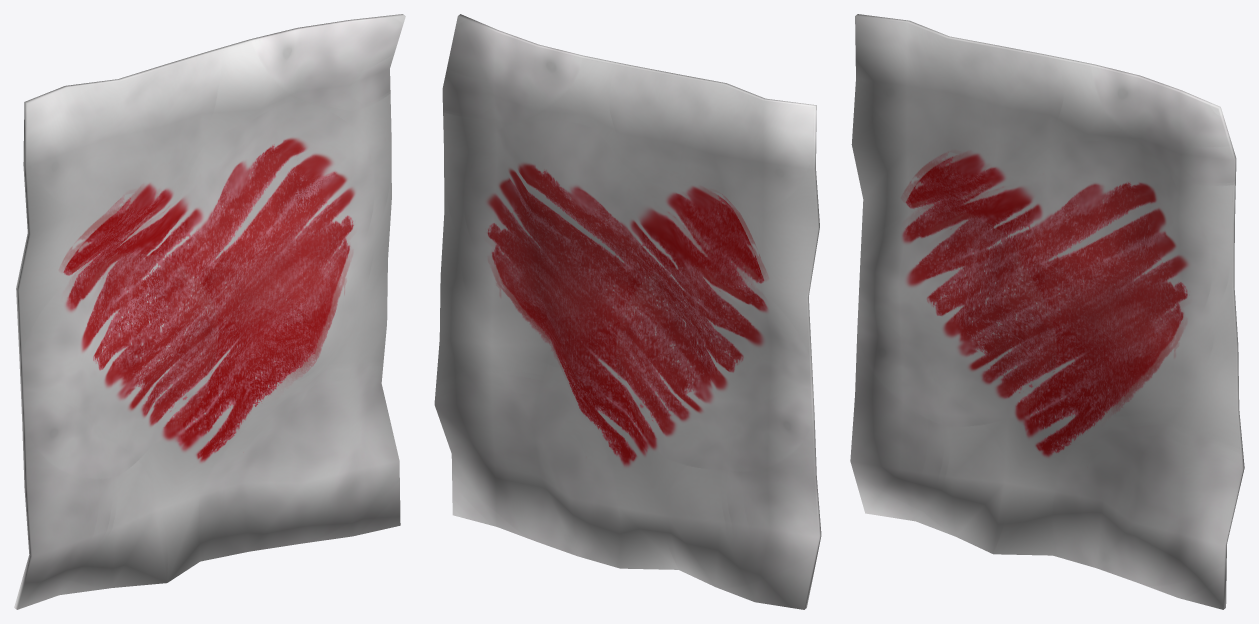
File: Paper_01.fbx
3 views of the same model, side by side, from view 1: azimuth 30°, elevation 25°; view 2: azimuth 150°, elevation 25°; view 3: azimuth 330°, elevation 25° (orthographic). The views are drawn at different scales.
Visible parts, largest first — view 1: geo_paper; view 2: geo_paper; view 3: geo_paper.
Boxes of the visible parts, bbox=[...] form: geo_paper: bbox=[14, 14, 405, 609]; geo_paper: bbox=[434, 14, 821, 609]; geo_paper: bbox=[850, 14, 1244, 609].
Size of the model in its own units: 152 by 200 by 21.52.
Materials: 1 (1 with a texture image).
